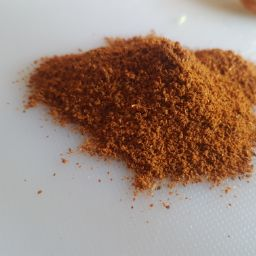Garam masala: (50, 17, 256, 208), (8, 47, 212, 228), (82, 34, 256, 187), (123, 61, 256, 208)
